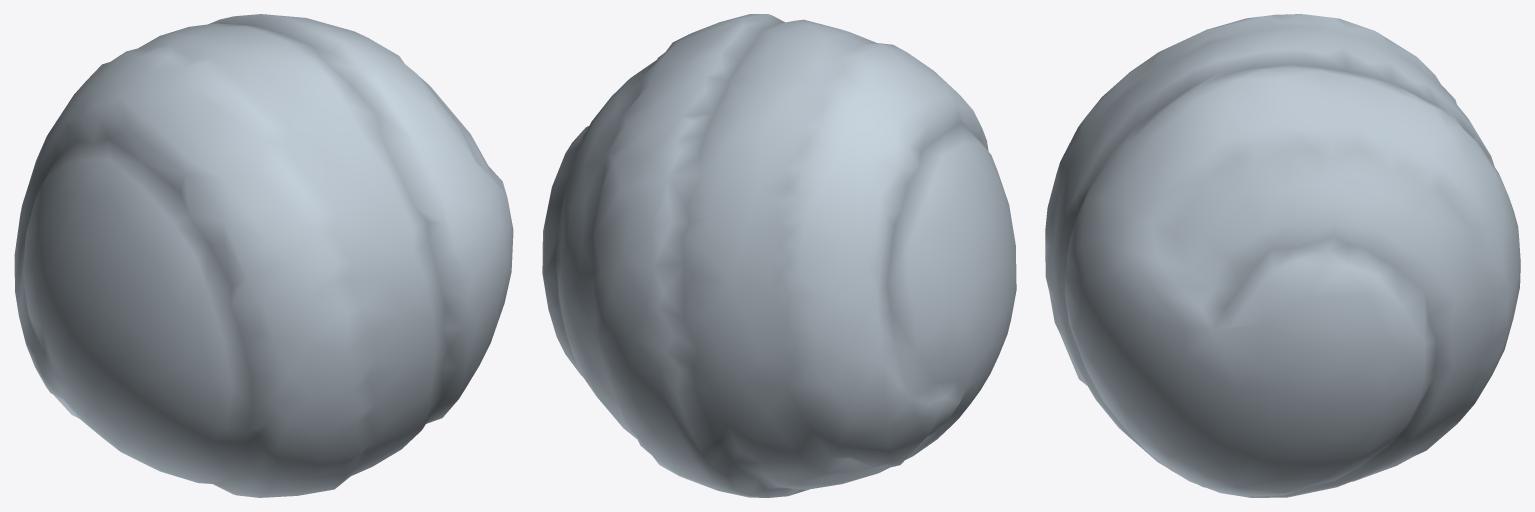
Rendered from snowball_shell.glb.
3 renders of one model, left to right at view 1: azimuth 30°, elevation 25°; view 2: azimuth 150°, elevation 25°; view 3: azimuth 270°, elevation 25°, orthographic.
Visible parts, largest first — view 1: snowball_shell; view 2: snowball_shell; view 3: snowball_shell.
Part boxes in pixels (<box>): snowball_shell: <box>14,14,513,497</box>; snowball_shell: <box>542,14,1016,497</box>; snowball_shell: <box>1045,14,1520,497</box>.
Size of the model in its own units: 0.7849 by 0.7876 by 0.7866.
